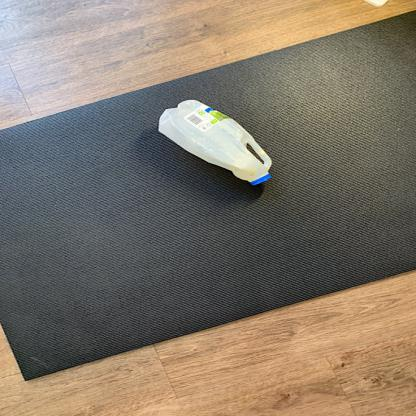trash: (154, 100, 276, 189)
